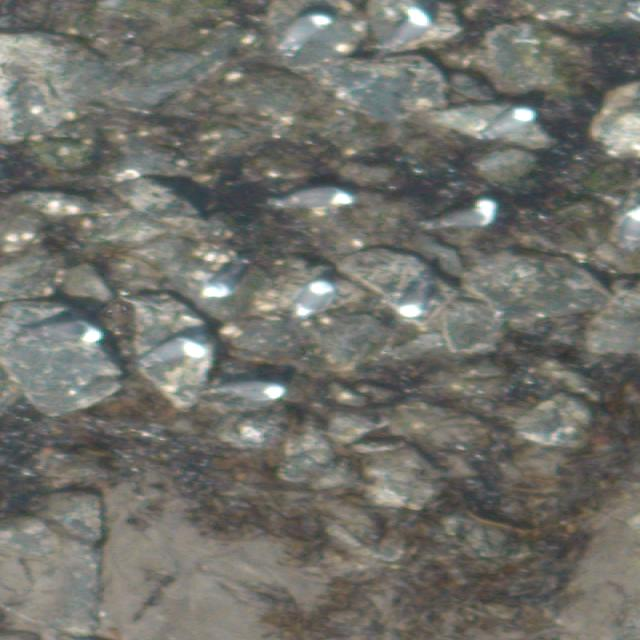umineko: (278, 14, 335, 56), (396, 270, 447, 316), (278, 182, 356, 208), (429, 200, 501, 228), (34, 318, 103, 347), (483, 106, 538, 142), (144, 336, 202, 368), (388, 5, 431, 48), (292, 278, 332, 320), (213, 381, 289, 401), (618, 208, 640, 245), (212, 269, 243, 293)
